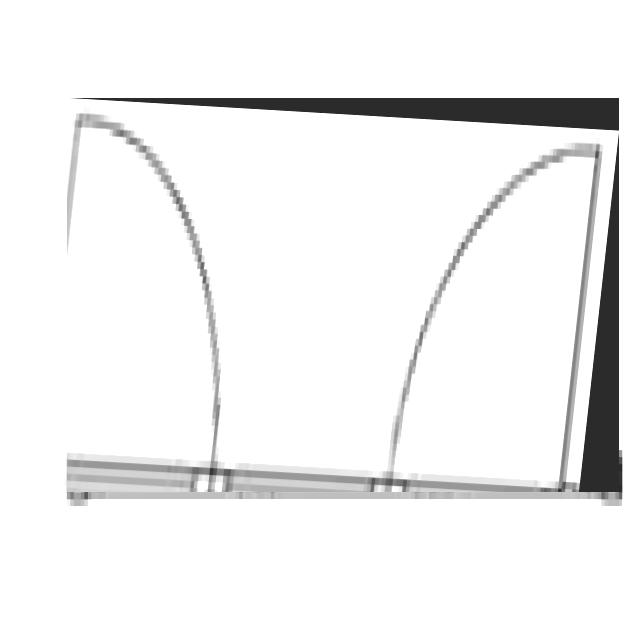door: (67, 99, 619, 492)
